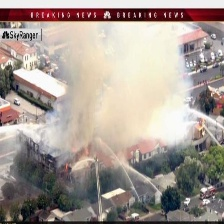smoke: (52, 25, 186, 159)
